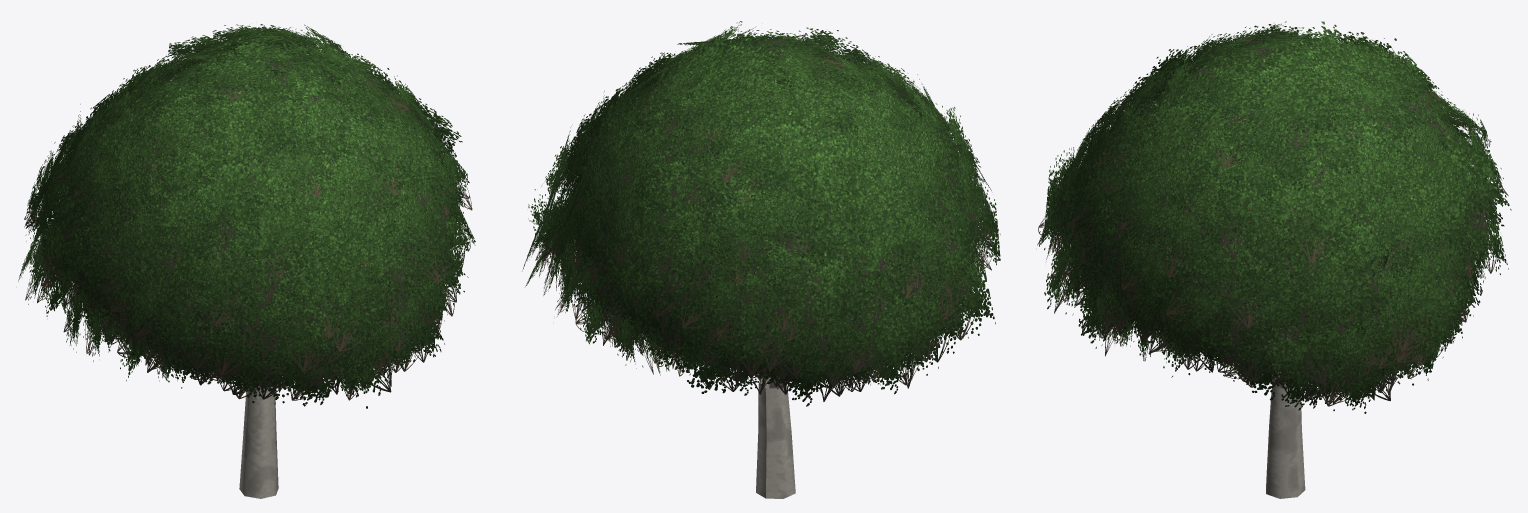
File: tree_ficus.glb
3 renders of one model, left to right at view 1: azimuth 30°, elevation 25°; view 2: azimuth 150°, elevation 25°; view 3: azimuth 270°, elevation 25°, orthographic. The views are drawn at different scales.
Visible parts, largest first — view 1: tree_ficus; view 2: tree_ficus; view 3: tree_ficus.
Part boxes in pixels (x1,y1,x2,y2): tree_ficus: (18,24,475,498); tree_ficus: (522,21,1000,498); tree_ficus: (1037,21,1511,498).
Bounding box in the file's own units: 8.57 × 9.05 × 8.39.
1 material, 1 textured.
